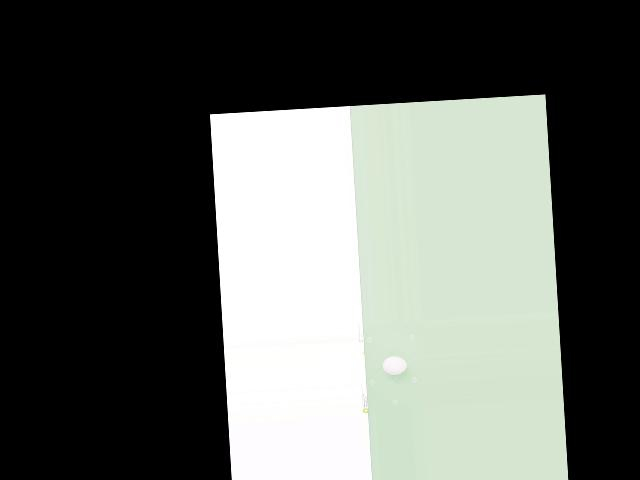egg: (382, 355, 406, 375)
